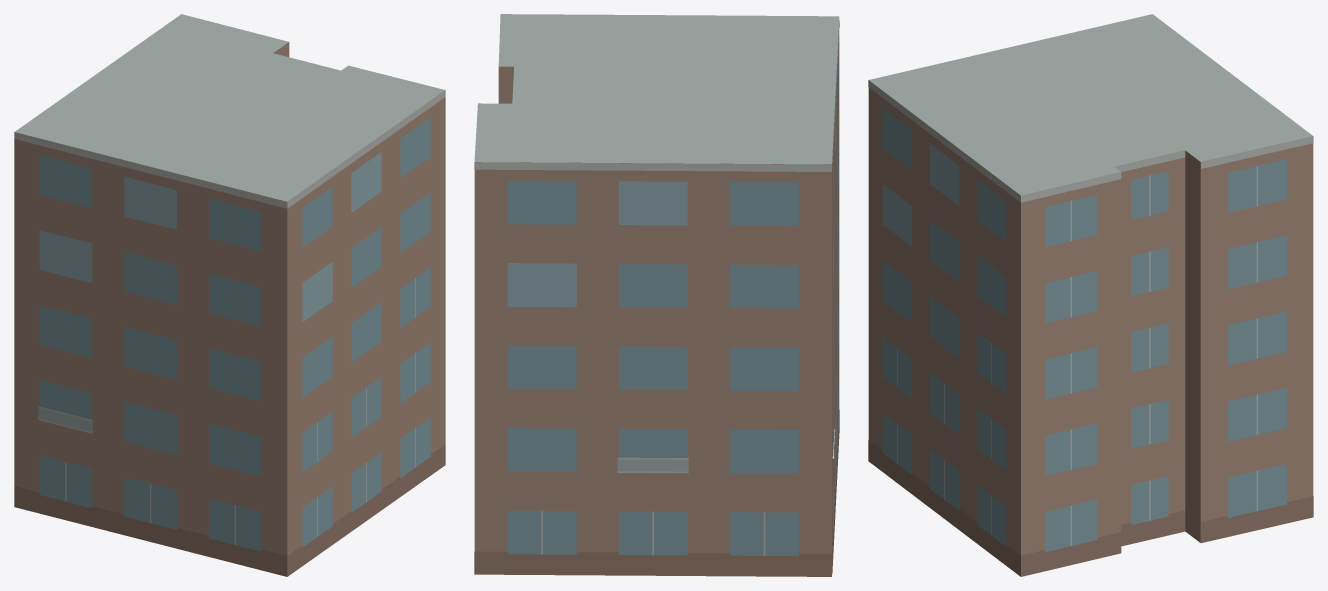
Rendered from survey-upis-32968957.glb.
3 views of the same model, side by side, from view 1: azimuth 30°, elevation 25°; view 2: azimuth 150°, elevation 25°; view 3: azimuth 270°, elevation 25° (orthographic). The views are drawn at different scales.
Parts seen in each view (by area): view 1: survey-upis-32968957.tmp; view 2: survey-upis-32968957.tmp; view 3: survey-upis-32968957.tmp.
Boxes of the visible parts, x1,y1,x2,y2 form: survey-upis-32968957.tmp: (14, 14, 445, 576); survey-upis-32968957.tmp: (474, 14, 839, 576); survey-upis-32968957.tmp: (868, 14, 1313, 576).
Bounding box in the file's own units: 13.5 × 13.2 × 13.97.
